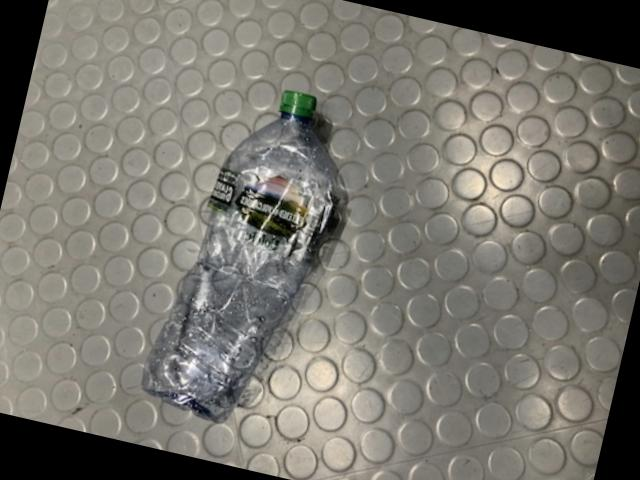plastic: (139, 91, 334, 422)
